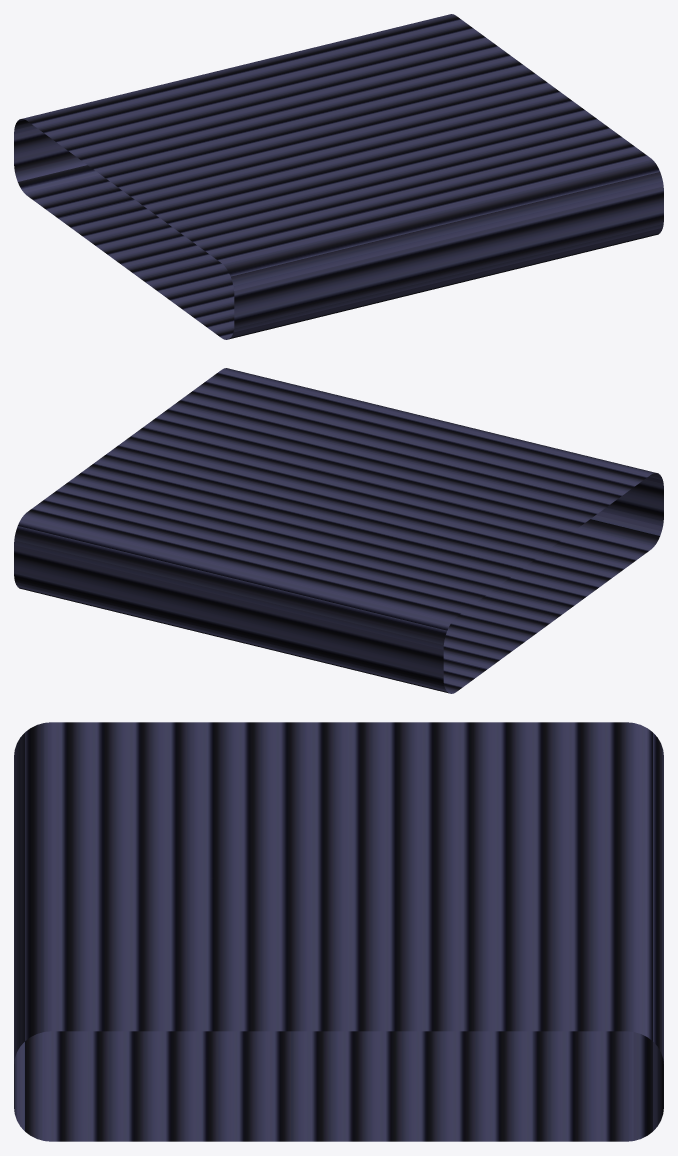
The model's file is conveyorbelt.glb.
3 views of the same model, one above another, from view 1: azimuth 30°, elevation 25°; view 2: azimuth 150°, elevation 25°; view 3: azimuth 270°, elevation 25° (orthographic). The views are drawn at different scales.
Parts seen in each view (by area): view 1: Cube; view 2: Cube; view 3: Cube.
Part boxes in pixels (<box>): Cube: <box>14,14,663,339</box>; Cube: <box>14,368,663,693</box>; Cube: <box>14,722,663,1141</box>.
Bounding box in the file's own units: 0.9 × 0.15 × 0.8.
Materials: 1 (1 with a texture image).
